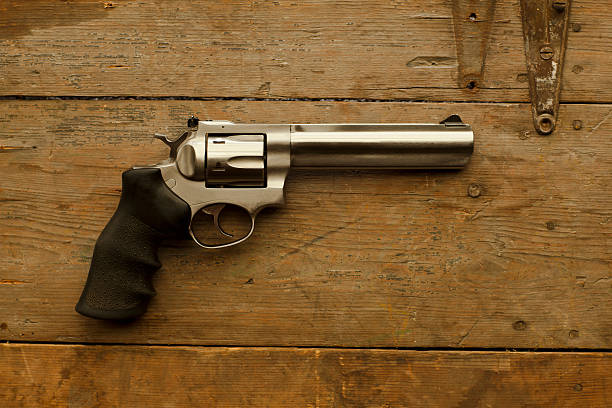pistol: (74, 111, 481, 324)
